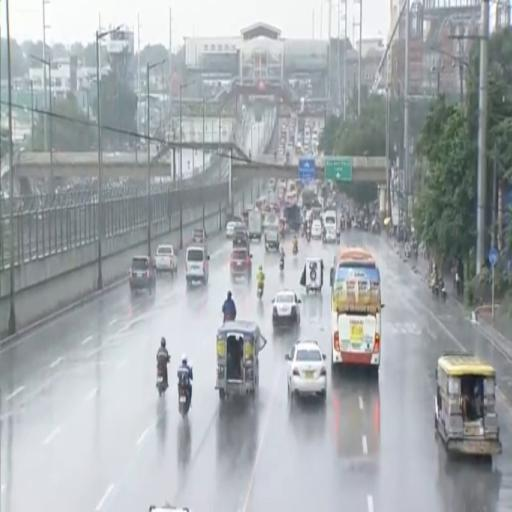bus: (330, 248, 382, 373), (256, 197, 267, 211)
car: (285, 341, 327, 399), (273, 291, 301, 328), (129, 256, 155, 294), (185, 245, 209, 285), (230, 248, 251, 280), (155, 245, 177, 274), (233, 227, 250, 249), (226, 221, 242, 238), (191, 228, 207, 244), (311, 219, 321, 239)
jeepney: (435, 354, 501, 455), (216, 320, 266, 399)
motorcycle: (179, 378, 190, 418), (432, 281, 447, 302), (156, 368, 167, 396), (257, 283, 263, 299), (224, 314, 234, 323), (405, 243, 410, 259), (306, 231, 311, 242), (280, 258, 284, 271), (293, 244, 298, 254), (336, 232, 340, 244)
truck: (264, 214, 280, 250), (248, 210, 262, 242)
